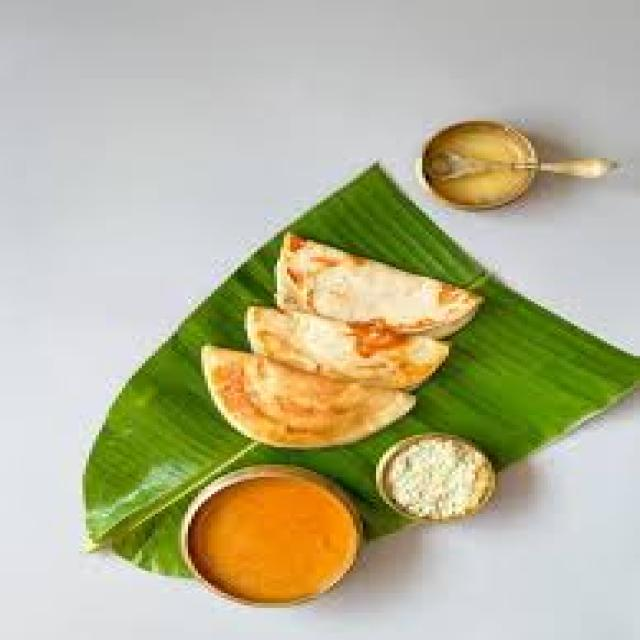DOSA: (275, 230, 488, 341), (206, 344, 417, 448), (247, 307, 451, 390)
